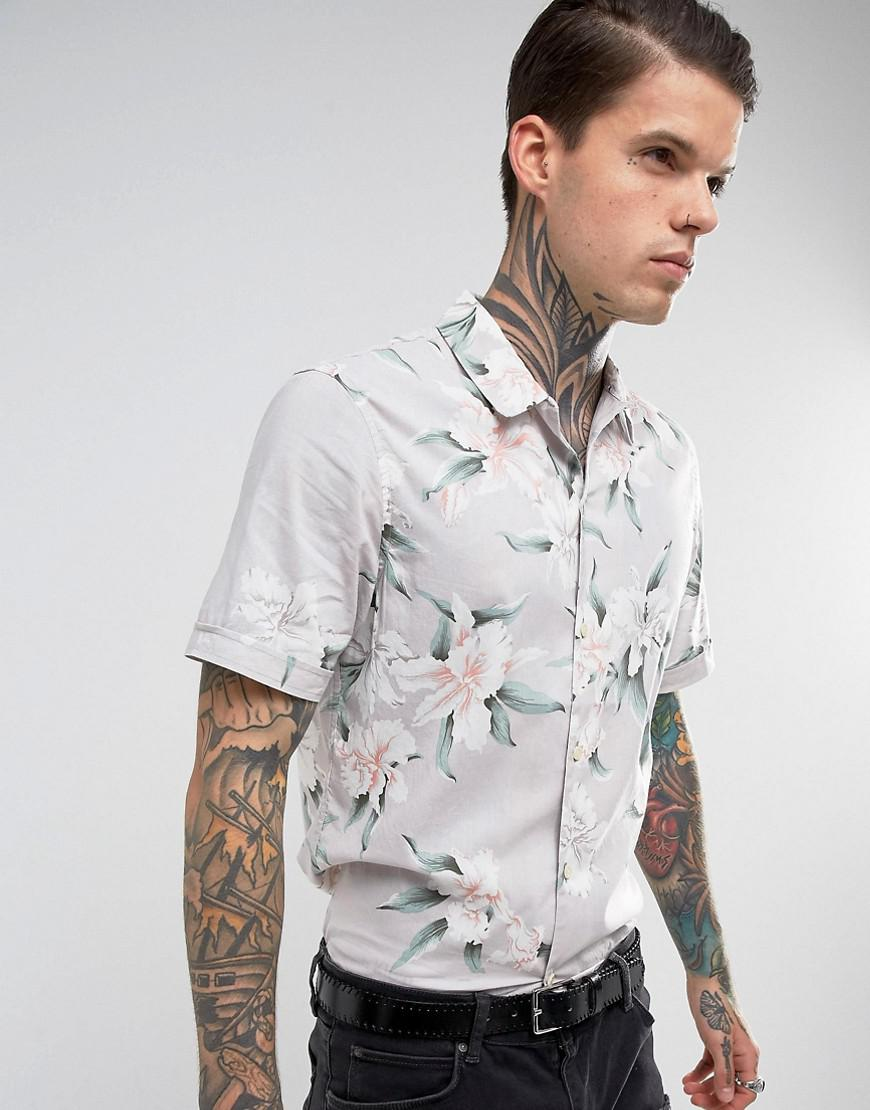teeshirt: (185, 281, 739, 996)
